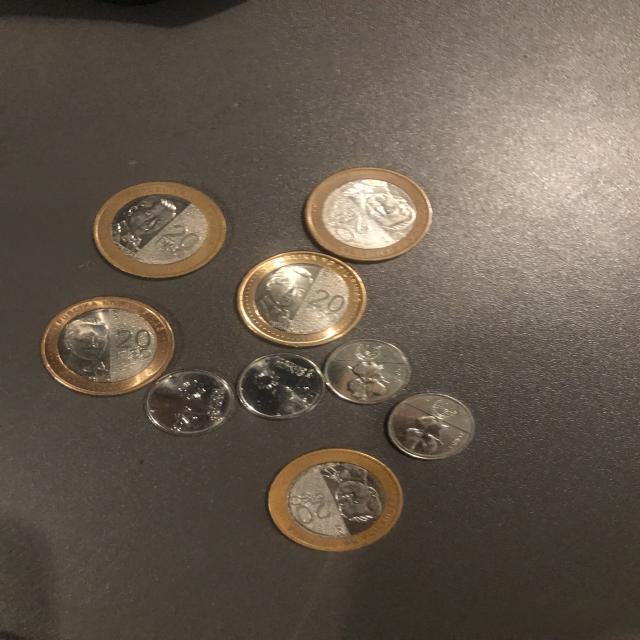20_New_Front: (294, 280, 350, 325), (153, 223, 203, 257), (112, 330, 161, 360)
25Cent_New_Back: (338, 355, 393, 401)
